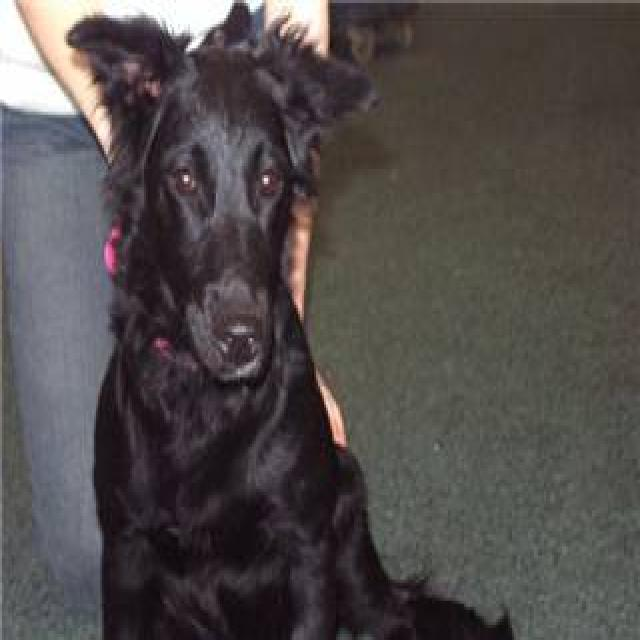dog: (64, 0, 516, 637)
